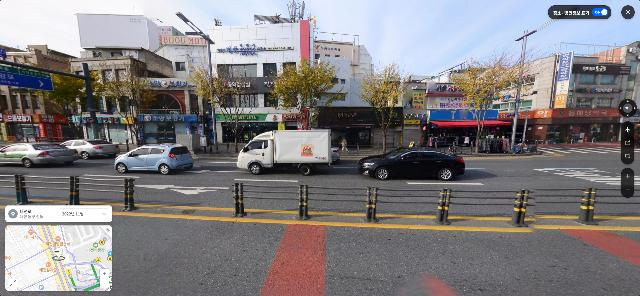ginkgo: (449, 43, 549, 153), (93, 56, 160, 152), (190, 58, 253, 153), (267, 51, 342, 130), (356, 59, 416, 153), (39, 59, 97, 141)
